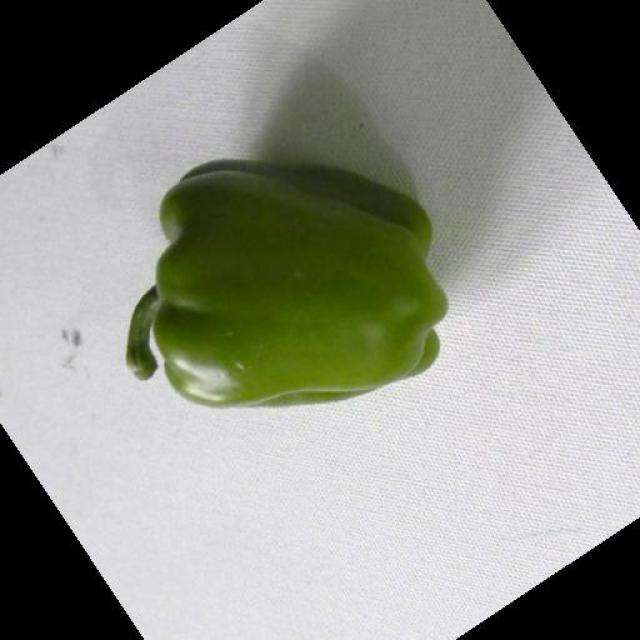Fresh_Capsicum: (137, 180, 419, 440)
